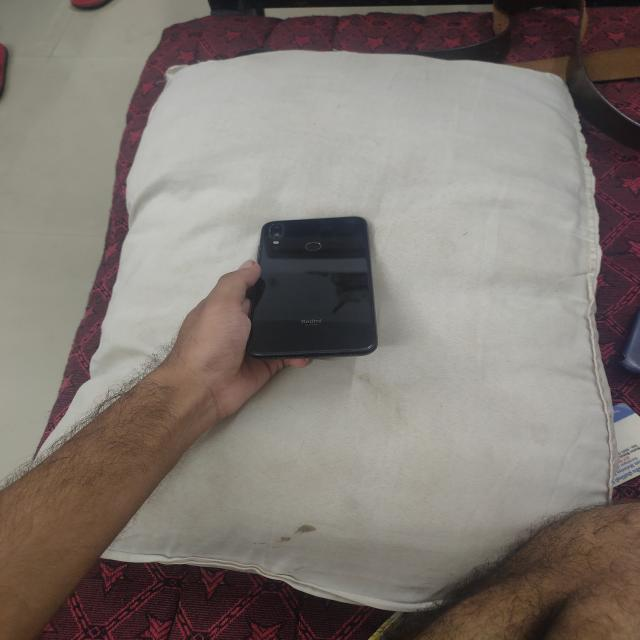Phone: (241, 214, 382, 366)
